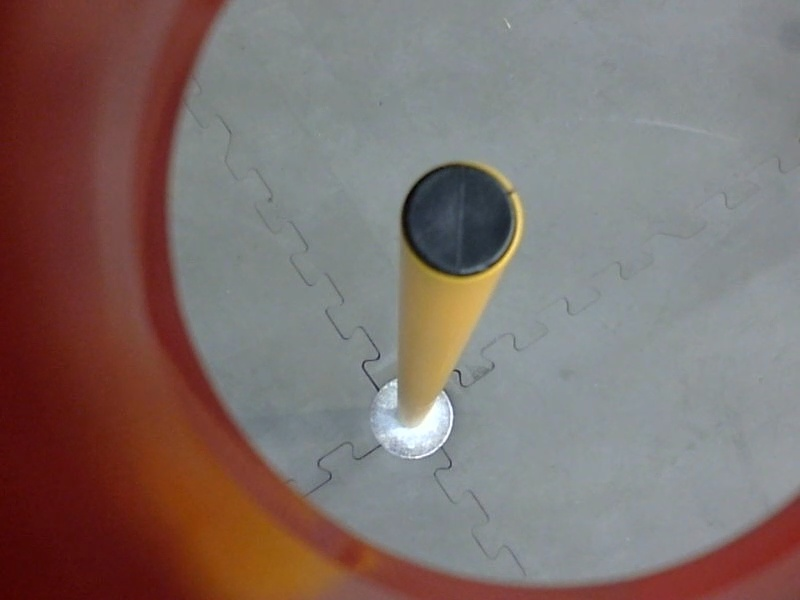tip: (390, 155, 530, 284)
